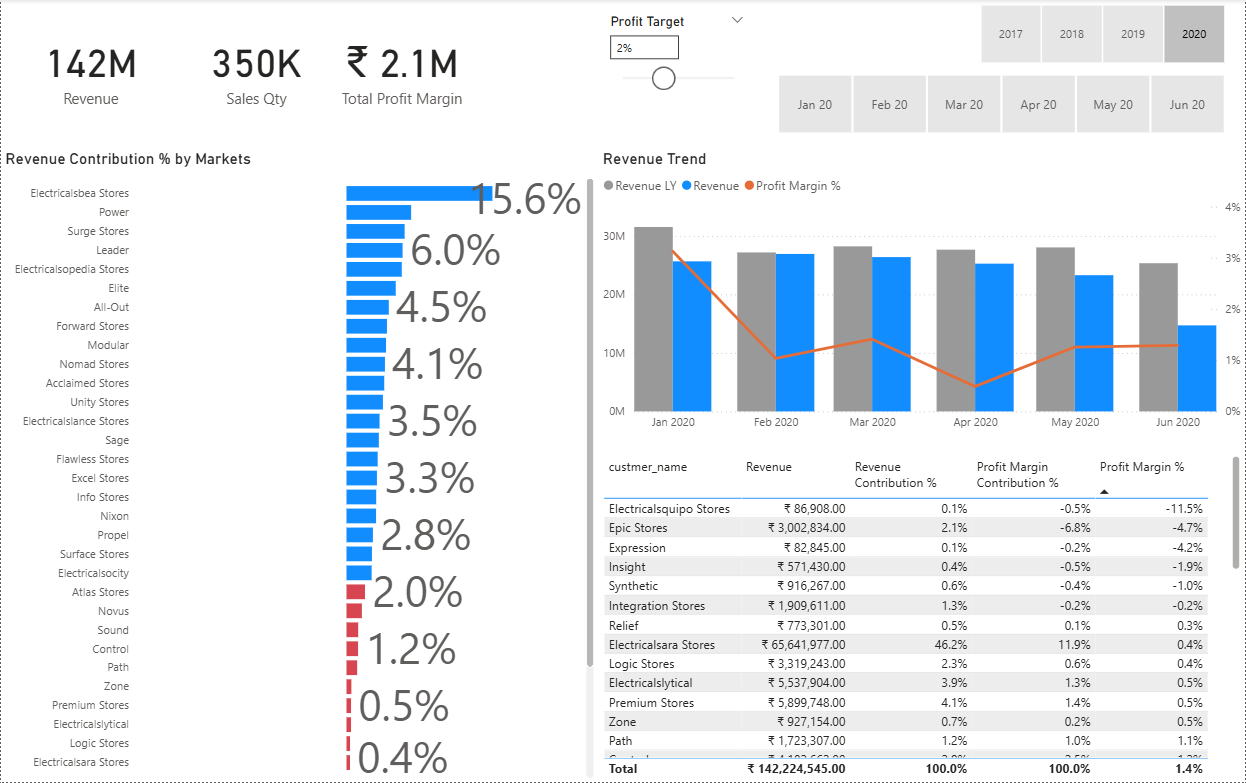

This screenshot's page, from the dashboard's own definition file:
{"tool":"powerbi","page":{"name":"Performance Insights","canvas":[1350,850],"ordinal":2},"visuals":[{"type":"card","fields":{"Values":["BaseMeasures (2).Revenue"]},"box":[0,0,195.3,151.9],"z":0},{"type":"card","fields":{"Values":["BaseMeasures (2).Sales Qty"]},"box":[195.3,0,164.1,151.9],"z":1000},{"type":"slicer","fields":{"Values":["sales date.year"]},"box":[1037.4,0,313.3,75.9],"z":2000},{"type":"slicer","fields":{"Values":["sales date.cy_date"]},"box":[817.7,75.9,532.9,75.9],"z":3000},{"type":"tableEx","title":"Top 5 Customers","fields":{"Values":["sales customers.custmer_name","BaseMeasures (2).Revenue","BaseMeasures (2).Revenue Contribution %","BaseMeasures (2).Profit Margin Contribution %","BaseMeasures (2).Profit Margin %"]},"box":[648.2,490.9,701.1,358],"z":4000},{"type":"lineClusteredColumnComboChart","title":"Revenue Trend","fields":{"Category":["sales date.cy_date"],"Y":["BaseMeasures (2).Revenue LY","BaseMeasures (2).Revenue"],"Y2":["BaseMeasures (2).Profit Margin %"]},"box":[648.2,162.7,702.5,314.6],"z":5000},{"type":"card","fields":{"Values":["BaseMeasures (2).Total Profit Margin"]},"box":[359.4,0,151.9,151.9],"z":6000},{"type":"barChart","title":"Revenue Contribution % by Markets","fields":{"Y":["BaseMeasures (2).Profit Margin %"],"Category":["sales markets.zone","sales markets.markets_name","sales customers.custmer_name","sales products.product_code"]},"box":[0,162.7,648.2,687.5],"z":7000},{"type":"slicer","fields":{"Values":["Profit Target 2.Profit Target"]},"box":[648.2,10.8,169.5,151.9],"z":8000}]}

Visuals, with their boxes in screenshot pixels (x1, y1, x2, y2), scaled from the page's 1350x850 canvas onto the 1246x783 screenshot:
card - BaseMeasures (2).Revenue: [0, 0, 180, 140]
card - BaseMeasures (2).Sales Qty: [180, 0, 332, 140]
slicer - sales date.year: [957, 0, 1245, 70]
slicer - sales date.cy_date: [755, 70, 1245, 140]
"Top 5 Customers" tableEx: [598, 452, 1245, 782]
"Revenue Trend" lineClusteredColumnComboChart: [598, 150, 1245, 440]
card - BaseMeasures (2).Total Profit Margin: [332, 0, 472, 140]
"Revenue Contribution % by Markets" barChart: [0, 150, 598, 782]
slicer - Profit Target 2.Profit Target: [598, 10, 755, 150]
